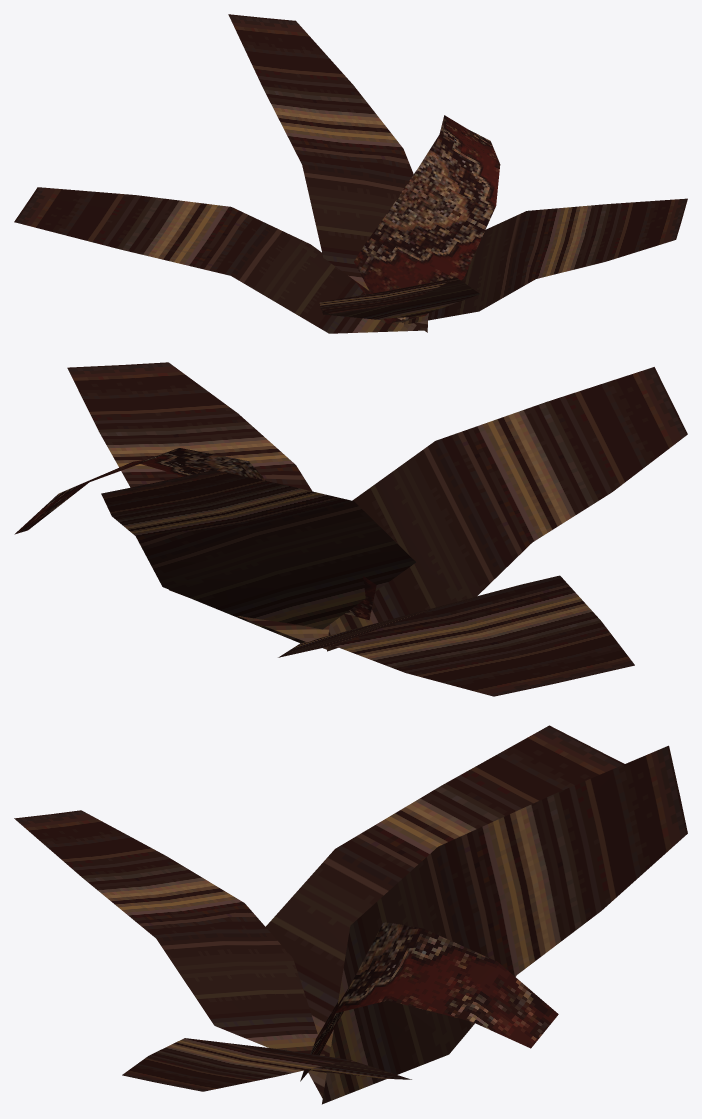
File: forest_pap_01.fbx
The picture shows the model from 3 angles, top to bottom: view 1: azimuth 30°, elevation 25°; view 2: azimuth 150°, elevation 25°; view 3: azimuth 270°, elevation 25°; orthographic projection. The views are drawn at different scales.
Parts seen in each view (by area): view 1: polySurface73; view 2: polySurface73; view 3: polySurface73.
Boxes of the visible parts, box(x1,y1,x2,y2) form: polySurface73: box(14, 14, 687, 333); polySurface73: box(14, 362, 687, 696); polySurface73: box(14, 725, 687, 1104).
Bounding box in the file's own units: 39.53 × 16.63 × 32.22.
